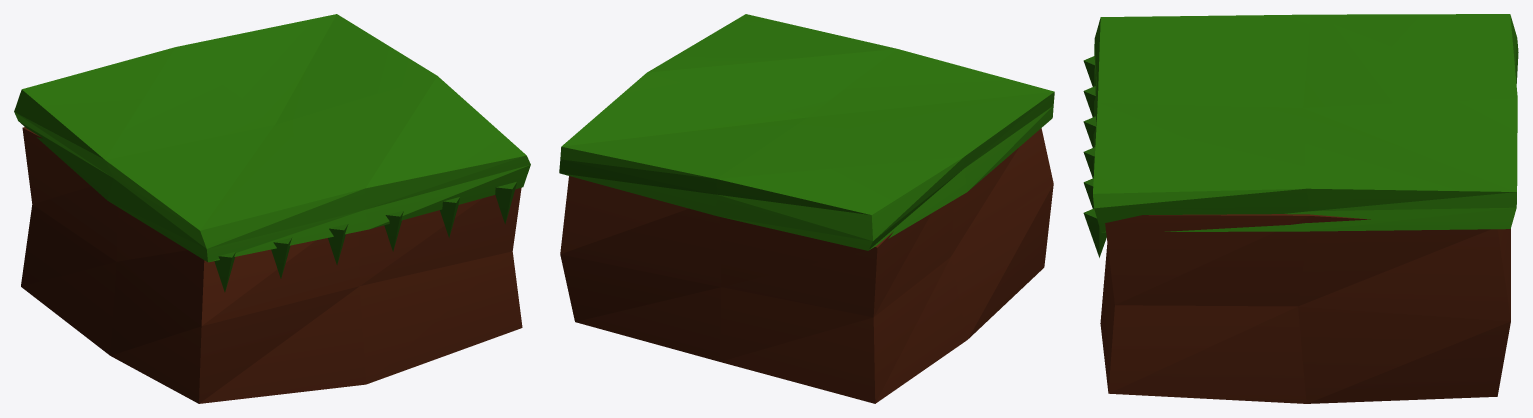
Rendered from ridge_1x1.glb.
The picture shows the model from 3 angles, left to right: view 1: azimuth 30°, elevation 25°; view 2: azimuth 150°, elevation 25°; view 3: azimuth 270°, elevation 25°; orthographic projection. The views are drawn at different scales.
Visible parts, largest first — view 1: ridge_1x1_root_body; view 2: ridge_1x1_root_body; view 3: ridge_1x1_root_body.
Part boxes in pixels (x1,y1,x2,y2): ridge_1x1_root_body: [14, 14, 530, 403]; ridge_1x1_root_body: [559, 14, 1054, 403]; ridge_1x1_root_body: [1083, 14, 1518, 403].
Bounding box in the file's own units: 2.12 × 1.23 × 2.17.
